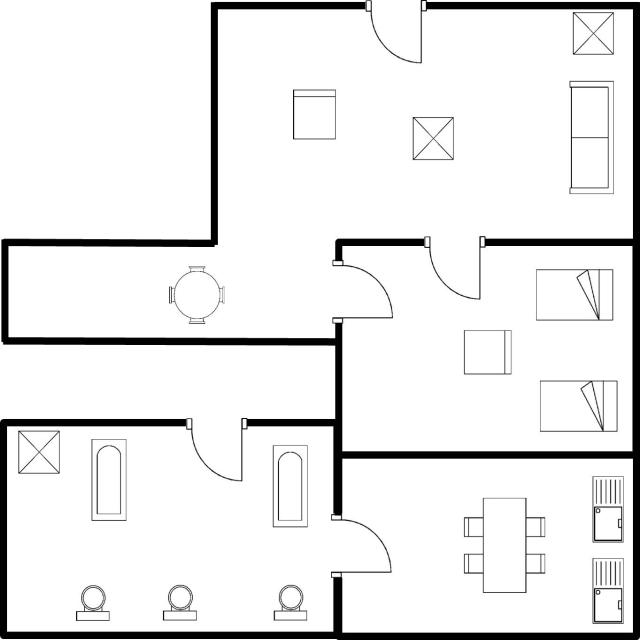bed: (534, 375, 622, 437), (532, 264, 617, 326)
coffee_table: (408, 111, 458, 166), (13, 426, 65, 478), (569, 10, 618, 61)
dining_table: (456, 493, 550, 597)
large_sink: (157, 580, 201, 626), (269, 580, 314, 624), (69, 582, 116, 624)
large_sofa: (566, 76, 617, 200)
round_table: (162, 259, 230, 330)
sink: (586, 473, 628, 547), (588, 554, 627, 628)
small_sofa: (456, 322, 516, 380), (288, 84, 342, 146)
tub: (88, 434, 132, 526), (268, 440, 312, 532)
